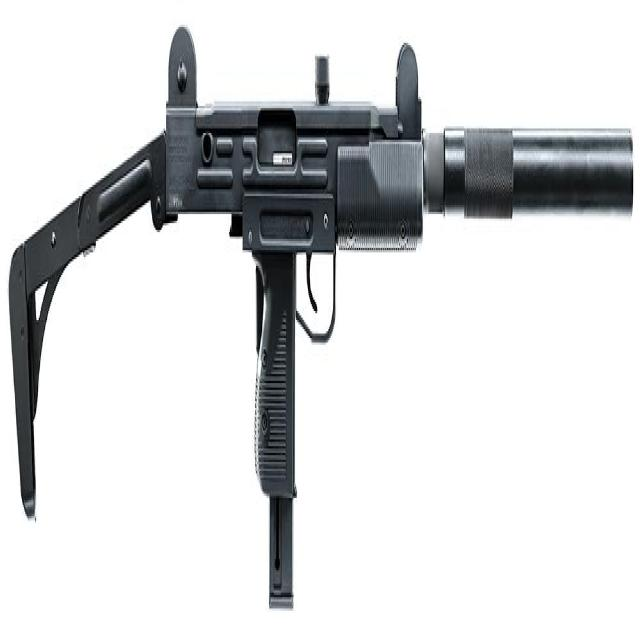SMG: (9, 27, 634, 611)
